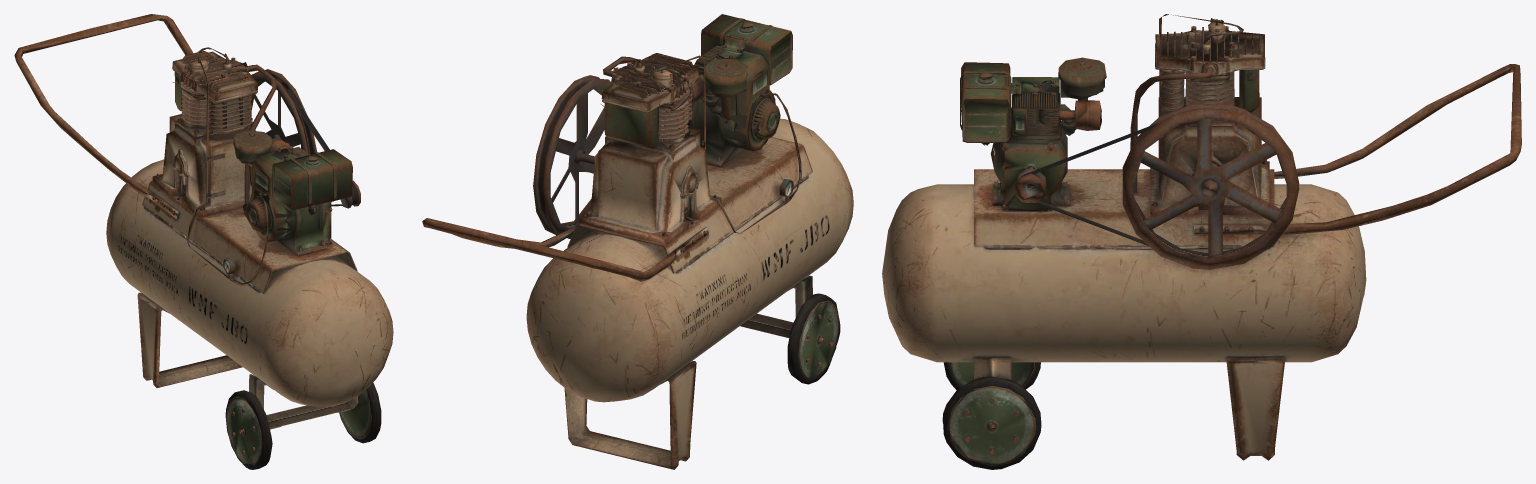
File: recycler.glb
The picture shows the model from 3 angles, left to right: view 1: azimuth 30°, elevation 25°; view 2: azimuth 150°, elevation 25°; view 3: azimuth 270°, elevation 25°; orthographic projection. The views are drawn at different scales.
Parts seen in each view (by area): view 1: old_military_compressor; view 2: old_military_compressor; view 3: old_military_compressor.
Part boxes in pixels (box(x1,y1,x2,y2)): old_military_compressor: box(14, 14, 393, 469); old_military_compressor: box(422, 14, 853, 469); old_military_compressor: box(882, 14, 1521, 469).
Size of the model in its own units: 0.5956 by 1.18 by 1.67.
2 materials, 2 textured.
